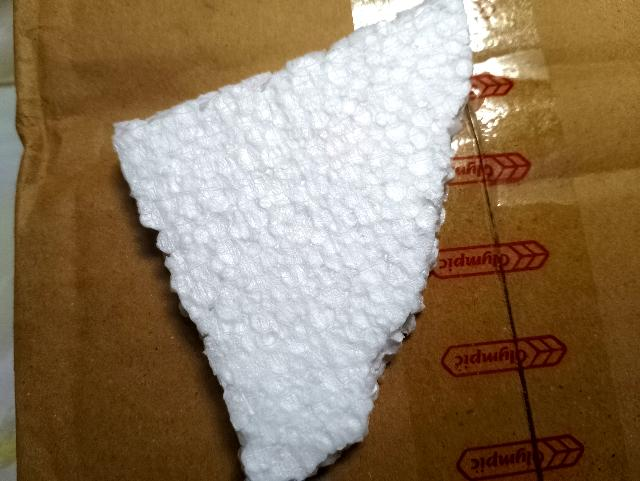cocksheet: (126, 23, 492, 454)
